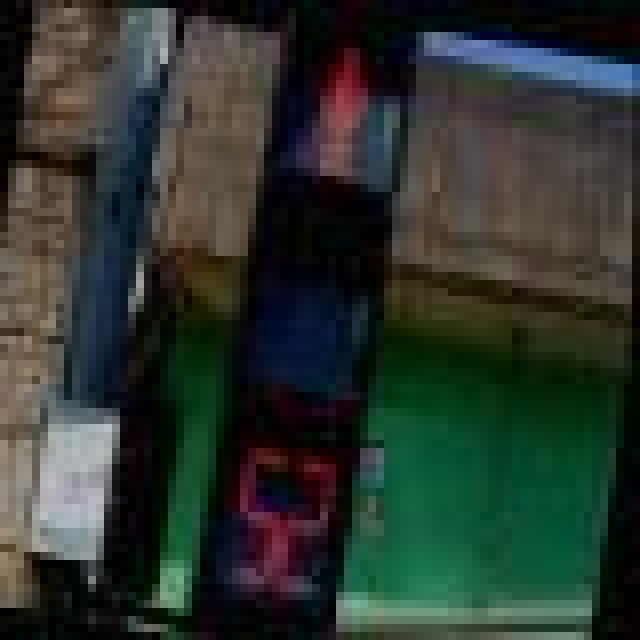redlight: (235, 7, 417, 409)
